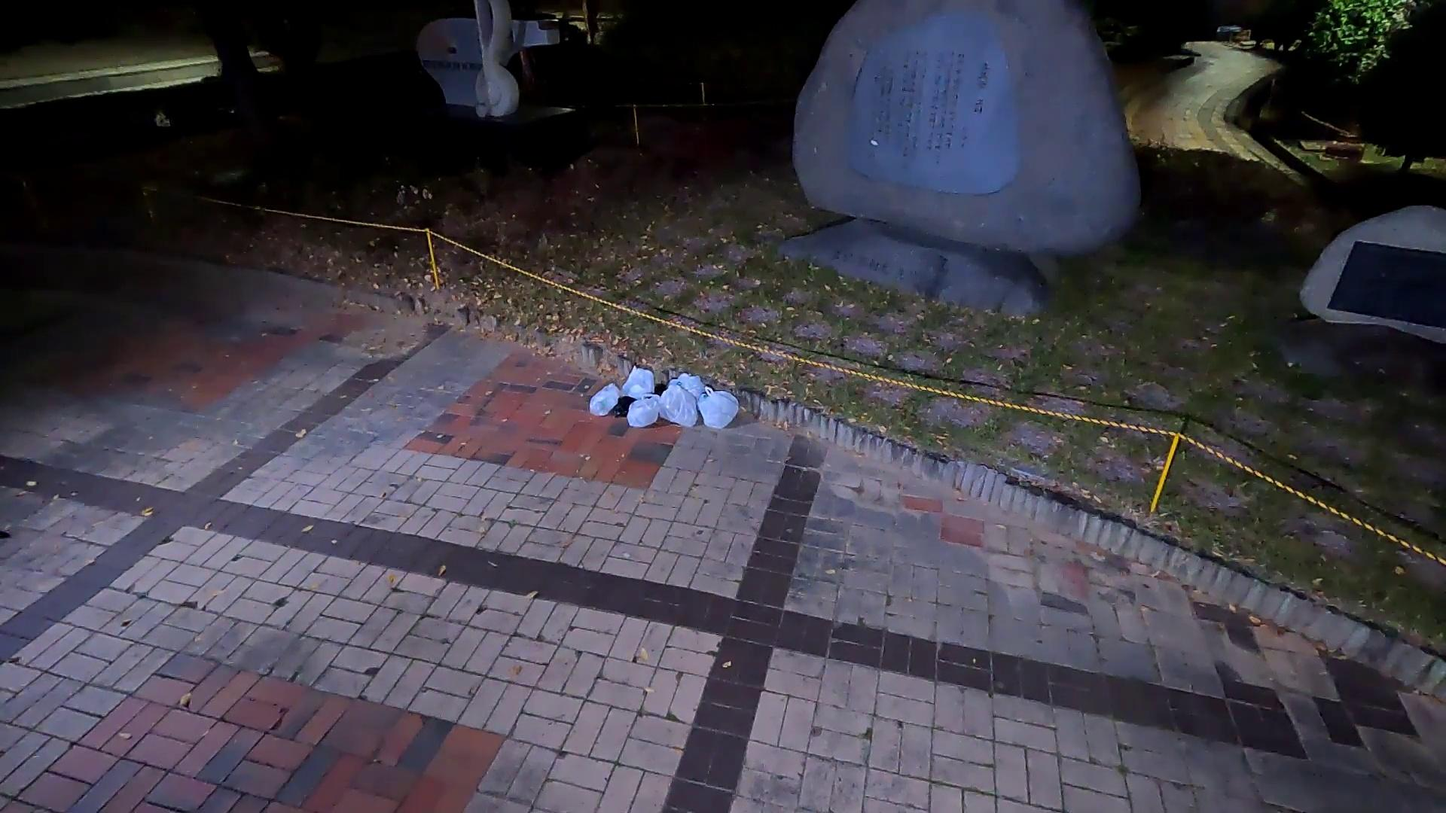trash: (655, 378, 700, 428), (695, 385, 741, 430), (668, 370, 708, 411), (626, 393, 665, 427), (589, 380, 623, 417), (624, 364, 656, 397), (606, 396, 636, 417)
